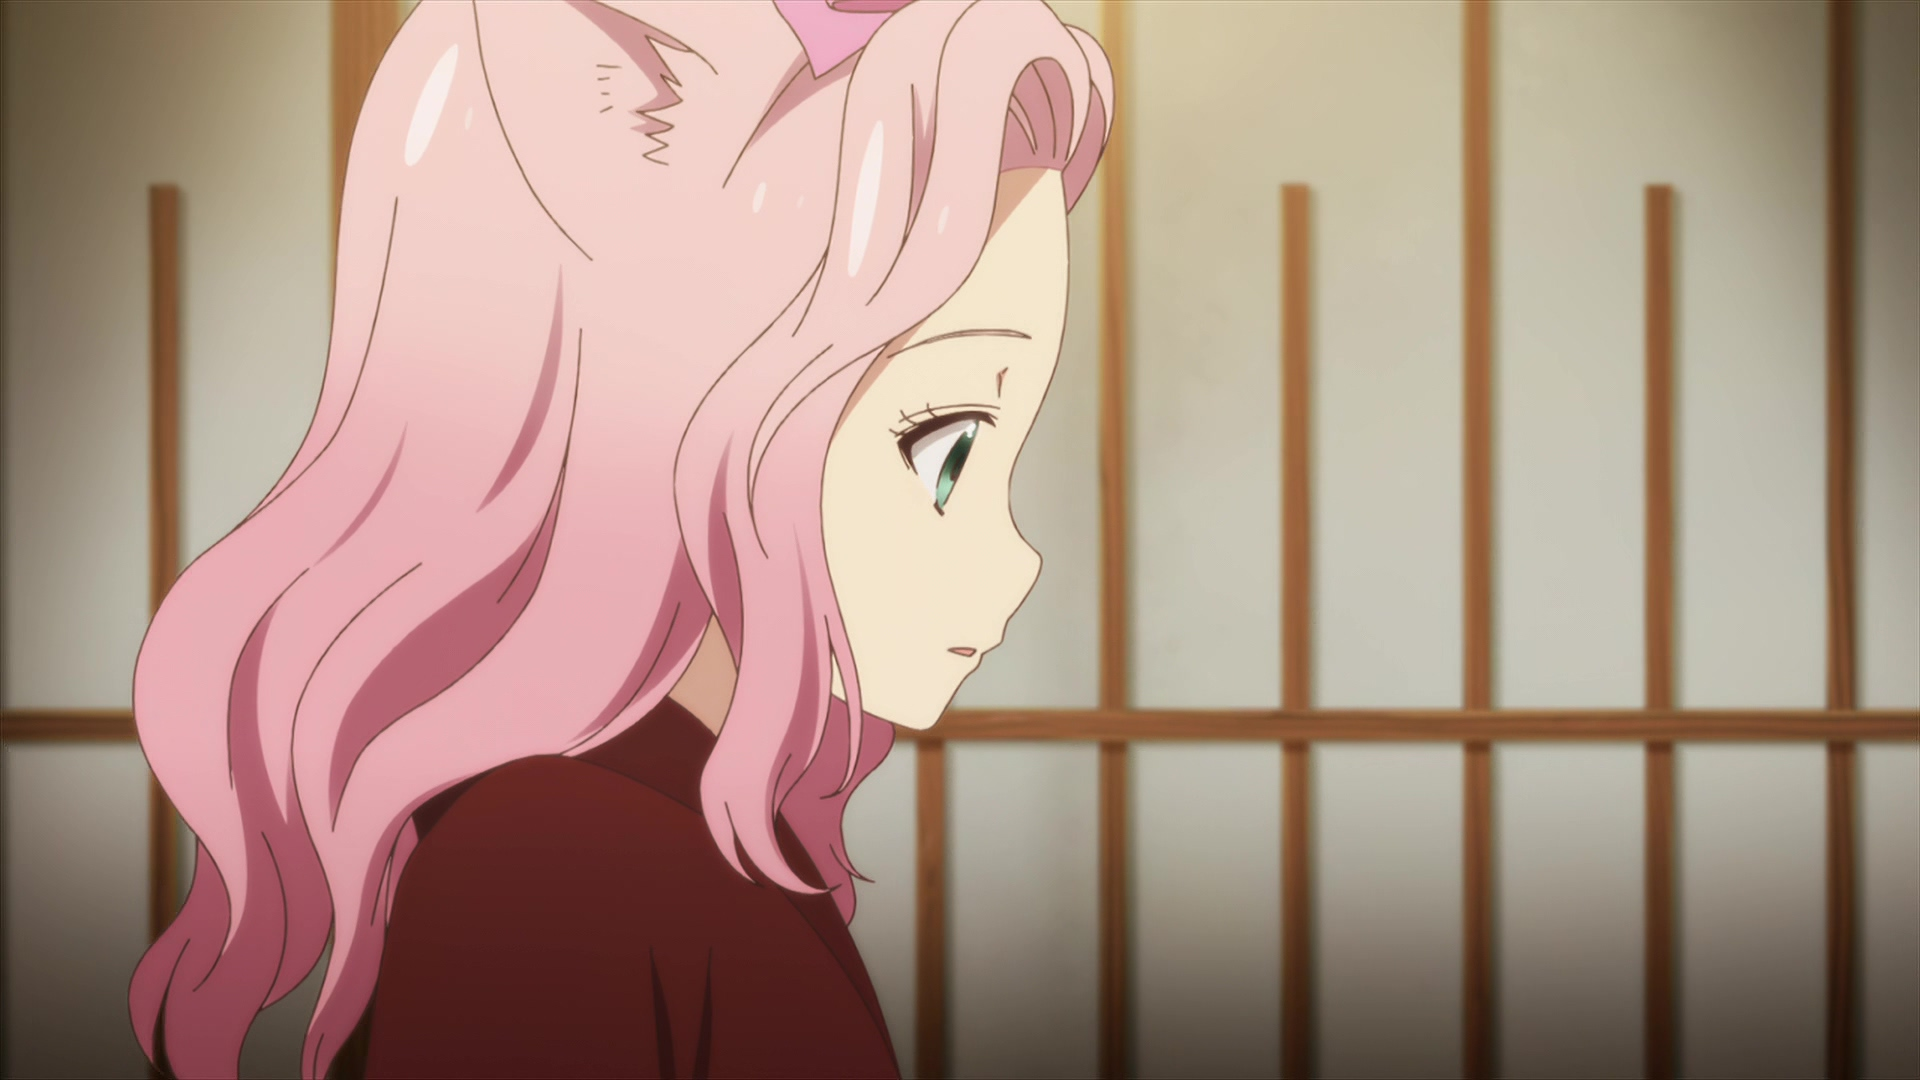莲: (128, 1, 1117, 1080)
